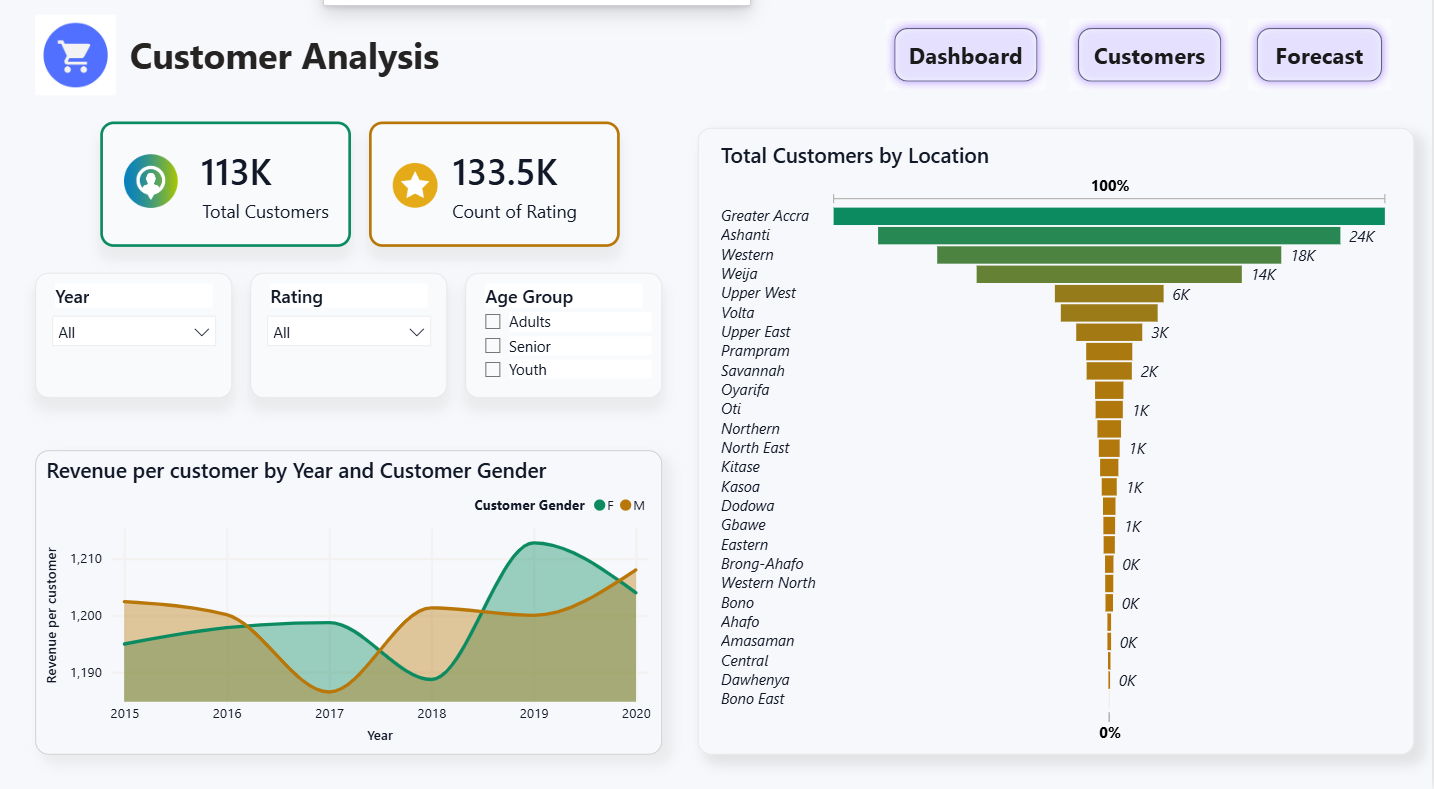

The dashboard page shown, as its layout file describes it:
{"tool":"powerbi","page":{"name":"Customers","canvas":[1280,720],"ordinal":1},"visuals":[{"type":"areaChart","fields":{"Category":["Dim Calendar.Date.Variation.Date Hierarchy.Year","Dim Calendar.Date.Variation.Date Hierarchy.Quarter","Dim Calendar.Date.Variation.Date Hierarchy.Month","Dim Calendar.Date.Variation.Date Hierarchy.Day"],"Series":["Dim-customer.Customer Gender"],"Y":["All Measures.Revenue per customer"]},"box":[32,416,560,272],"z":0},{"type":"card","fields":{"Values":["All Measures.Total Customers"]},"box":[90.5,122.8,224,112],"z":1000},{"type":"card","fields":{"Values":["CountNonNull(Fact_Ecommerce.Rating)"]},"box":[330.5,122.8,224,112],"z":2000},{"type":"slicer","fields":{"Values":["Dim-customer.Age Group"]},"box":[416,258.3,176,112],"z":3000},{"type":"funnel","fields":{"Category":["Dim-customer.Location"],"Y":["All Measures.Total Customers"]},"box":[624,128,640,560],"z":4000},{"type":"slicer","fields":{"Values":["Fact_Ecommerce.Rating"]},"box":[224,258.3,176,112],"z":5000},{"type":"slicer","fields":{"Values":["Dim Calendar.Year"]},"box":[32,258.3,176,112],"z":6000},{"type":"textbox","box":[32,32,512,64],"z":7000},{"type":"image","box":[32,24,72,80],"z":8000},{"type":"image","box":[352,152,40,56],"z":9000},{"type":"image","box":[112,144,48,64],"z":10000},{"type":"actionButton","box":[955.3,31.7,144,64],"z":10001},{"type":"actionButton","box":[1115.3,31.7,128,64],"z":10002},{"type":"actionButton","box":[791.5,31.7,144,64],"z":10003}]}

Visuals, with their boxes in screenshot pixels (x1, y1, x2, y2), scaled from the page's 1280x720 canvas onto the 1434x789 screenshot:
areaChart - Dim Calendar.Date.Variation.Date Hierarchy.Year x Dim Calendar.Date.Variation.Date Hierarchy.Quarter: [36,456,663,754]
card - All Measures.Total Customers: [101,135,352,257]
card - CountNonNull(Fact_Ecommerce.Rating): [370,135,621,257]
slicer - Dim-customer.Age Group: [466,283,663,406]
funnel - Dim-customer.Location x All Measures.Total Customers: [699,140,1416,754]
slicer - Fact_Ecommerce.Rating: [251,283,448,406]
slicer - Dim Calendar.Year: [36,283,233,406]
textbox: [36,35,609,105]
image: [36,26,117,114]
image: [394,167,439,228]
image: [125,158,179,228]
actionButton: [1070,35,1232,105]
actionButton: [1249,35,1393,105]
actionButton: [887,35,1048,105]
